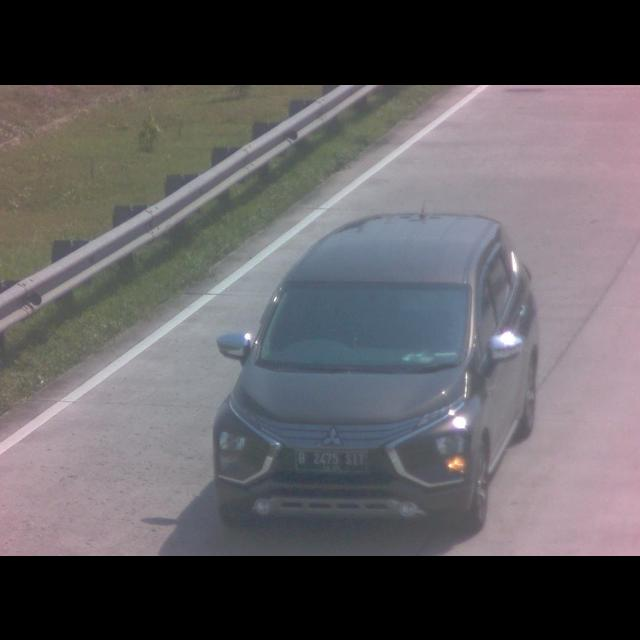plate: (291, 445, 369, 473)
